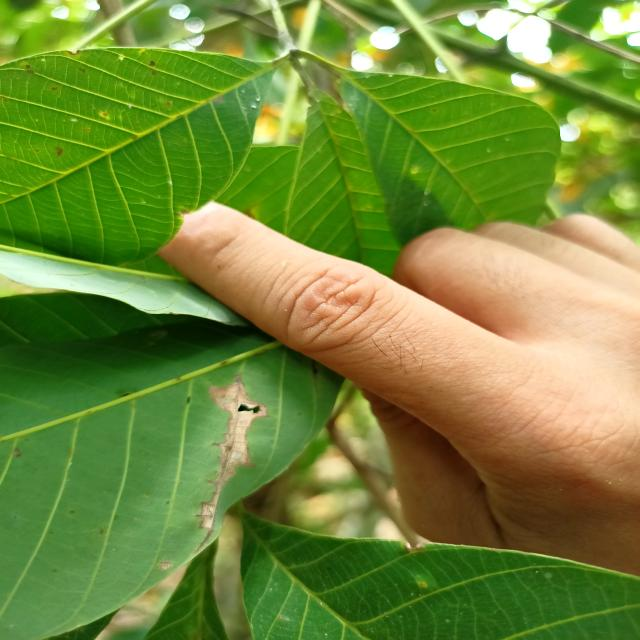Corynespora: (192, 374, 270, 552), (196, 529, 213, 551)
